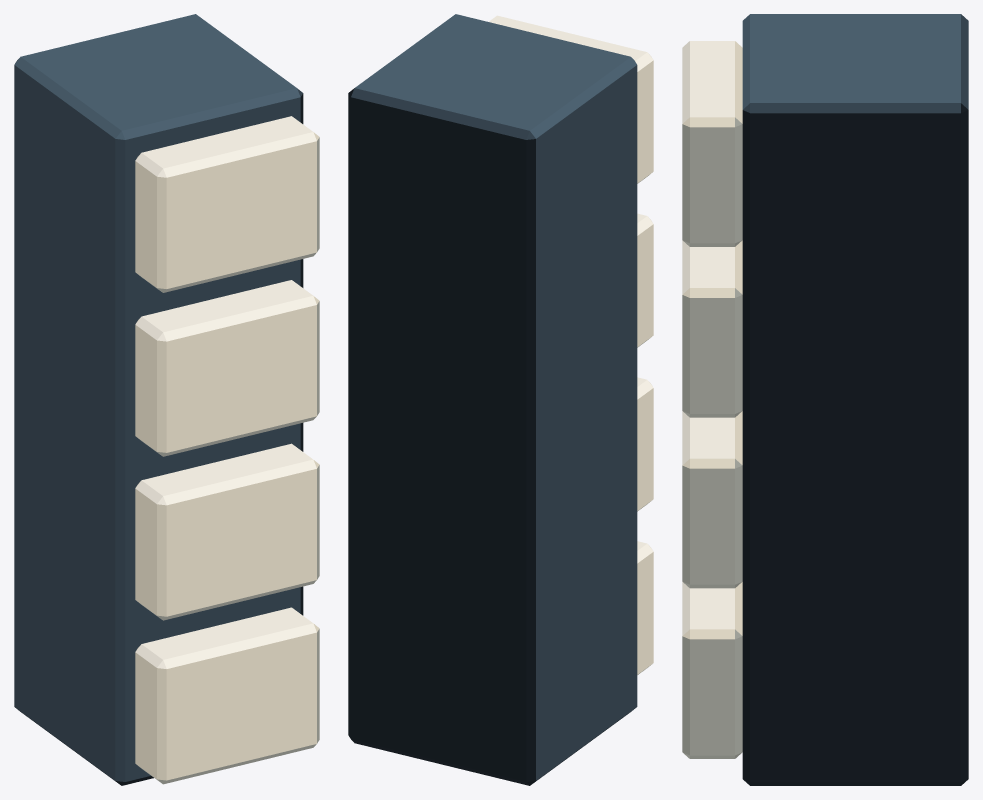
Rendered from Edge_Shutter.gltf.
3 renders of one model, left to right at view 1: azimuth 30°, elevation 25°; view 2: azimuth 150°, elevation 25°; view 3: azimuth 270°, elevation 25°, orthographic. The views are drawn at different scales.
Visible parts, largest first — view 1: Edge_Shutter_baked; view 2: Edge_Shutter_baked; view 3: Edge_Shutter_baked.
Part boxes in pixels (bbox=[...]): Edge_Shutter_baked: bbox=[14, 14, 319, 785]; Edge_Shutter_baked: bbox=[348, 14, 653, 785]; Edge_Shutter_baked: bbox=[682, 14, 968, 785].
Bounding box in the file's own units: 0.3 × 1 × 0.38.
